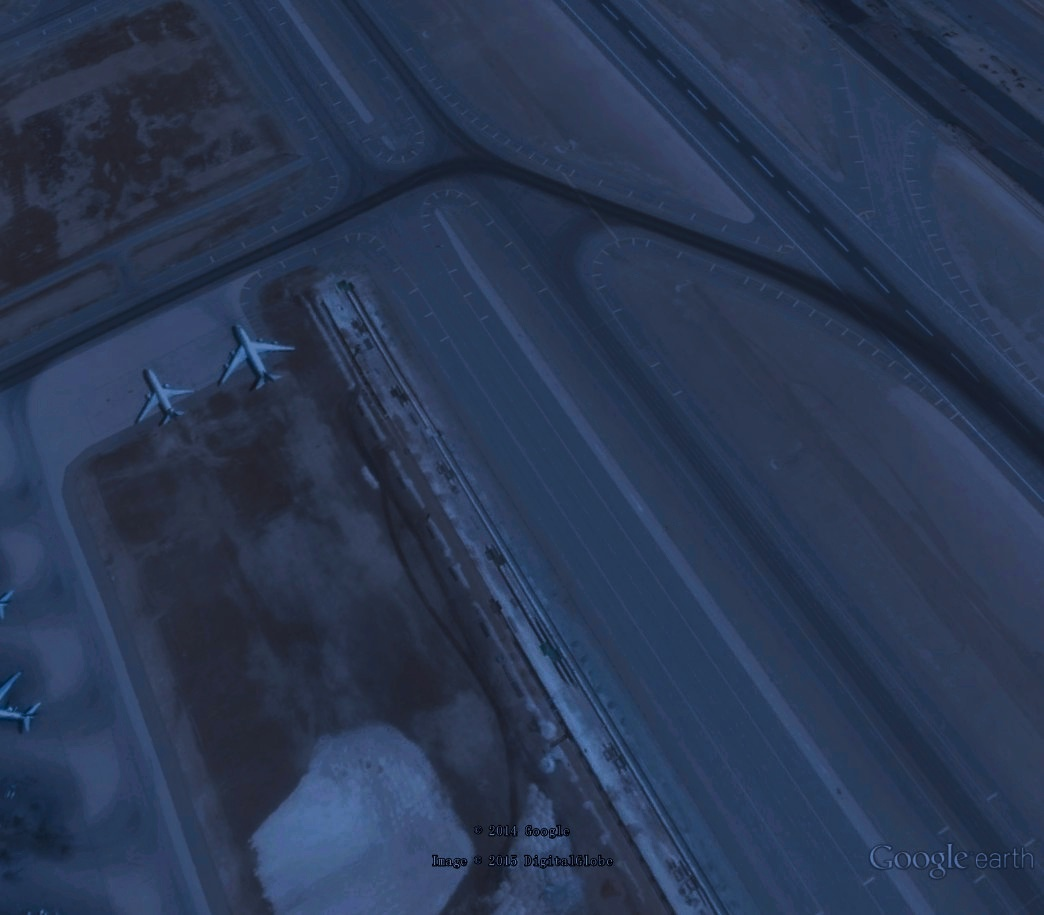aircraft: (213, 322, 301, 394), (133, 366, 202, 430), (1, 670, 45, 738)
